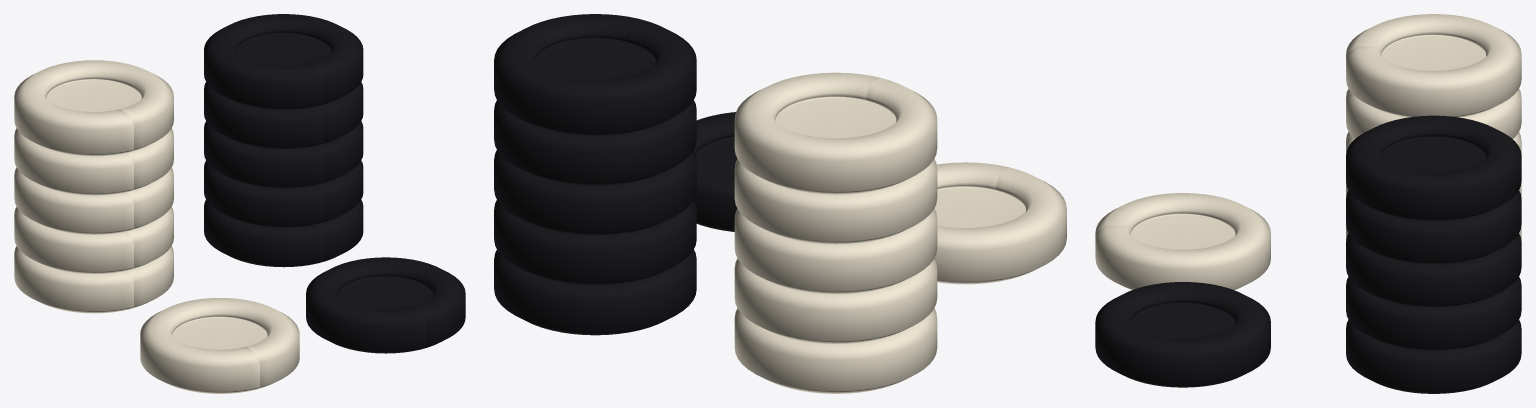
Rendered from checkers_ivoryOnyx.glb.
3 views of the same model, side by side, from view 1: azimuth 30°, elevation 25°; view 2: azimuth 150°, elevation 25°; view 3: azimuth 270°, elevation 25° (orthographic). The views are drawn at different scales.
Visible parts, largest first — view 1: checker_light_4, checker_face_dark, checker_dark_4, checker_face_light, checker_light_0, checker_light_2, checker_dark_2, checker_dark_1, checker_light_3, checker_dark_0, checker_dark_3, checker_light_1; view 2: checker_light_4, checker_dark_4, checker_face_light, checker_light_3, checker_light_2, checker_light_0, checker_light_1, checker_dark_1, checker_dark_2, checker_dark_0, checker_dark_3, checker_face_dark; view 3: checker_dark_4, checker_face_dark, checker_light_4, checker_face_light, checker_dark_1, checker_dark_2, checker_dark_0, checker_dark_3, checker_light_3.
Part boxes in pixels (x1,y1,x2,y2): checker_light_4: (14, 60, 173, 156); checker_face_dark: (306, 257, 465, 353); checker_dark_4: (204, 14, 363, 109); checker_face_light: (140, 298, 299, 393); checker_light_0: (14, 246, 173, 313); checker_light_2: (14, 167, 173, 234); checker_dark_2: (204, 121, 363, 188); checker_dark_1: (204, 160, 363, 227); checker_light_3: (14, 128, 173, 195); checker_dark_0: (204, 200, 363, 267); checker_dark_3: (204, 82, 363, 149); checker_light_1: (14, 207, 173, 274); checker_light_4: (734, 72, 937, 194); checker_dark_4: (494, 14, 696, 135); checker_face_light: (934, 162, 1066, 284); checker_light_3: (734, 159, 937, 244); checker_light_2: (734, 208, 937, 294); checker_light_0: (734, 308, 937, 393); checker_light_1: (734, 258, 937, 344); checker_dark_1: (494, 200, 696, 285); checker_dark_2: (494, 150, 696, 235); checker_dark_0: (494, 249, 696, 335); checker_dark_3: (494, 100, 696, 185); checker_face_dark: (694, 112, 737, 231); checker_dark_4: (1346, 115, 1521, 221); checker_face_dark: (1095, 282, 1270, 387); checker_light_4: (1346, 14, 1521, 117); checker_face_light: (1095, 193, 1270, 290); checker_dark_1: (1346, 276, 1521, 350); checker_dark_2: (1346, 233, 1521, 307); checker_dark_0: (1346, 320, 1521, 393); checker_dark_3: (1346, 190, 1521, 264); checker_light_3: (1346, 88, 1521, 138).
Bounding box in the file's own units: 0.083 × 0.047 × 0.085.
